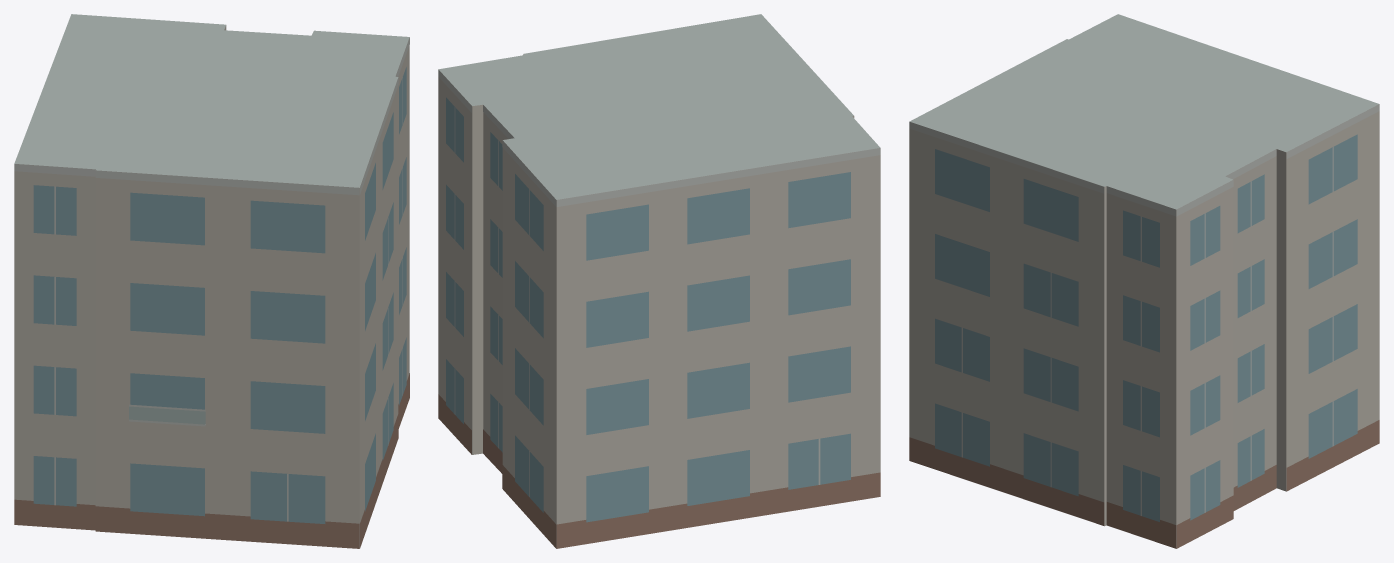
Rendered from survey-upis-32670106.glb.
3 renders of one model, left to right at view 1: azimuth 30°, elevation 25°; view 2: azimuth 150°, elevation 25°; view 3: azimuth 270°, elevation 25°, orthographic. The views are drawn at different scales.
Visible parts, largest first — view 1: survey-upis-32670106.tmp; view 2: survey-upis-32670106.tmp; view 3: survey-upis-32670106.tmp.
Boxes of the visible parts, x1=… form: survey-upis-32670106.tmp: x1=14, y1=14, x2=409, y2=548; survey-upis-32670106.tmp: x1=438, y1=14, x2=880, y2=548; survey-upis-32670106.tmp: x1=909, y1=14, x2=1379, y2=548.
Size of the model in its own units: 14.6 by 11.8 by 14.83.
